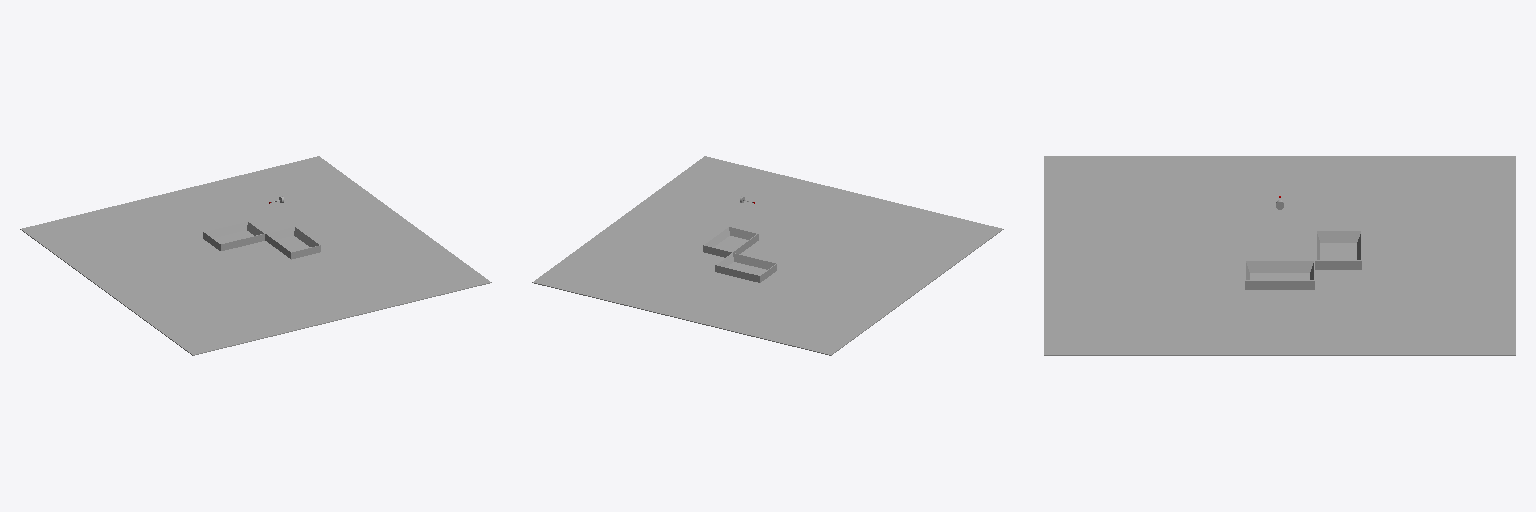
robot.urdf — rl_scene:
<?xml version="1.0" encoding="utf-8"?>
<!-- =================================================================================== -->
<!-- |    This document was autogenerated by xacro from rl_scene.xacro                 | -->
<!-- |    EDITING THIS FILE BY HAND IS NOT RECOMMENDED                                 | -->
<!-- =================================================================================== -->
<robot name="rl_scene">
  <material name="silver">
    <color rgba="0.700 0.700 0.700 1.000"/>
  </material>
  <link name="base_link">
    <inertial>
      <origin rpy="0 0 0" xyz="0.0 -2.3283064365386967e-16 -0.005"/>
      <mass value="1256.0"/>
      <inertia ixx="1674.677133" ixy="-0.0" ixz="0.0" iyy="1674.677133" iyz="-0.0" izz="3349.333333"/>
    </inertial>
    <visual>
      <origin rpy="0 0 0" xyz="0 0 0"/>
      <geometry>
        <mesh filename="package://rl_scene_description/meshes/base_link.stl" scale="0.001 0.001 0.001"/>
      </geometry>
      <material name="silver"/>
    </visual>
    <collision>
      <origin rpy="0 0 0" xyz="0 0 0"/>
      <geometry>
        <mesh filename="package://rl_scene_description/meshes/base_link.stl" scale="0.001 0.001 0.001"/>
      </geometry>
    </collision>
  </link>
  <link name="link_box1_1">
    <inertial>
      <origin rpy="0 0 0" xyz="8.478324452852449e-17 0.0 0.03175959070611188"/>
      <mass value="53.89391980829295"/>
      <inertia ixx="1.185042" ixy="0.0" ixz="0.0" iyy="2.312279" iyz="-0.0" izz="3.413976"/>
    </inertial>
    <visual>
      <origin rpy="0 0 0" xyz="0.0 -0.5 -0.0"/>
      <geometry>
        <mesh filename="package://rl_scene_description/meshes/link_box1_1.stl" scale="0.001 0.001 0.001"/>
      </geometry>
      <material name="silver"/>
    </visual>
    <collision>
      <origin rpy="0 0 0" xyz="0.0 -0.5 -0.0"/>
      <geometry>
        <mesh filename="package://rl_scene_description/meshes/link_box1_1.stl" scale="0.001 0.001 0.001"/>
      </geometry>
    </collision>
  </link>
  <link name="link_box2_1">
    <inertial>
      <origin rpy="0 0 0" xyz="1.1102230246251565e-16 0.0 0.03175959070611188"/>
      <mass value="53.89391980829295"/>
      <inertia ixx="2.312279" ixy="0.0" ixz="0.0" iyy="1.185042" iyz="-0.0" izz="3.413976"/>
    </inertial>
    <visual>
      <origin rpy="0 0 0" xyz="-0.5 -0.0 -0.0"/>
      <geometry>
        <mesh filename="package://rl_scene_description/meshes/link_box2_1.stl" scale="0.001 0.001 0.001"/>
      </geometry>
      <material name="silver"/>
    </visual>
    <collision>
      <origin rpy="0 0 0" xyz="-0.5 -0.0 -0.0"/>
      <geometry>
        <mesh filename="package://rl_scene_description/meshes/link_box2_1.stl" scale="0.001 0.001 0.001"/>
      </geometry>
    </collision>
  </link>
  <!-- GRIPPER -->
  <link name="link_gripper">
    <visual>
      <origin rpy="0 0 0" xyz="-0.0 -0.0 -0.0"/>
      <geometry>
        <mesh filename="package://rl_scene_description/meshes/gripper.stl" scale="0.001 0.001 0.001"/>
      </geometry>
      <material name="silver"/>
    </visual>
    <collision>
      <origin rpy="0 0 0" xyz="-0.0 -0.0 -0.0"/>
      <geometry>
        <mesh filename="package://rl_scene_description/meshes/gripper.stl" scale="0.001 0.001 0.001"/>
      </geometry>
    </collision>
  </link>
  <link name="grasp_point">
    <visual>
      <origin rpy="0 0 0" xyz="0.0 0.0 0.0"/>
      <geometry>
        <box size="0.015 0.015 0.015"/>
      </geometry>
      <material name="red">
        <color rgba="0.8 0.0 0.0 0.5"/>
      </material>
    </visual>
  </link>
  <joint name="gripper_joint_1" type="fixed">
    <origin rpy="0 0 0" xyz="0.0 -0.0 0.173"/>
    <parent link="link_gripper"/>
    <child link="grasp_point"/>
  </joint>
  <!--  -->
  <joint name="box2_joint" type="fixed">
    <origin rpy="0 0 0" xyz="0.0 0.5 0.0"/>
    <parent link="base_link"/>
    <child link="link_box1_1"/>
  </joint>
  <joint name="box1_joint" type="fixed">
    <origin rpy="0 0 0" xyz="0.5 0.0 0.0"/>
    <parent link="base_link"/>
    <child link="link_box2_1"/>
  </joint>
  <joint name="panda_1_joint_base_link" type="fixed">
    <parent link="base_link"/>
    <child link="panda_1_link0"/>
    <origin rpy="0 0 0" xyz="0.0 0.0 0.0"/>
  </joint>
  <link name="panda_1_link0">
    <visual>
      <geometry>
        <mesh filename="package://franka_description/meshes/visual/link0.dae"/>
      </geometry>
    </visual>
    <collision>
      <origin rpy="0 1.57079632679 0" xyz="-0.075 0 0.06"/>
      <geometry>
        <cylinder length="0.03" radius="0.09"/>
      </geometry>
    </collision>
    <collision>
      <origin rpy="0 0 0" xyz="-0.06 0 0.06"/>
      <geometry>
        <sphere radius="0.09"/>
      </geometry>
    </collision>
    <collision>
      <origin rpy="0 0 0" xyz="-0.09 0 0.06"/>
      <geometry>
        <sphere radius="0.09"/>
      </geometry>
    </collision>
  </link>
  <link name="panda_1_link1">
    <visual>
      <geometry>
        <mesh filename="package://franka_description/meshes/visual/link1.dae"/>
      </geometry>
    </visual>
    <collision>
      <origin rpy="0 0 0" xyz="0 0 -0.1915"/>
      <geometry>
        <cylinder length="0.2830" radius="0.09"/>
      </geometry>
    </collision>
    <collision>
      <origin rpy="0 0 0" xyz="0 0 -0.333"/>
      <geometry>
        <sphere radius="0.09"/>
      </geometry>
    </collision>
    <collision>
      <origin rpy="0 0 0" xyz="0 0 -0.05"/>
      <geometry>
        <sphere radius="0.09"/>
      </geometry>
    </collision>
  </link>
  <joint name="panda_1_joint1" type="revolute">
    <safety_controller k_position="100.0" k_velocity="40.0" soft_lower_limit="-2.8973" soft_upper_limit="2.8973"/>
    <origin rpy="0 0 0" xyz="0 0 0.333"/>
    <parent link="panda_1_link0"/>
    <child link="panda_1_link1"/>
    <axis xyz="0 0 1"/>
    <limit effort="87" lower="-2.8973" upper="2.8973" velocity="2.1750"/>
  </joint>
  <link name="panda_1_link2">
    <visual>
      <geometry>
        <mesh filename="package://franka_description/meshes/visual/link2.dae"/>
      </geometry>
    </visual>
    <collision>
      <origin rpy="0 0 0" xyz="0 0 0"/>
      <geometry>
        <cylinder length="0.12" radius="0.09"/>
      </geometry>
    </collision>
    <collision>
      <origin rpy="0 0 0" xyz="0 0 -0.06"/>
      <geometry>
        <sphere radius="0.09"/>
      </geometry>
    </collision>
    <collision>
      <origin rpy="0 0 0" xyz="0 0 0.06"/>
      <geometry>
        <sphere radius="0.09"/>
      </geometry>
    </collision>
  </link>
  <joint name="panda_1_joint2" type="revolute">
    <safety_controller k_position="100.0" k_velocity="40.0" soft_lower_limit="-1.7628" soft_upper_limit="1.7628"/>
    <origin rpy="-1.57079632679 0 0" xyz="0 0 0"/>
    <parent link="panda_1_link1"/>
    <child link="panda_1_link2"/>
    <axis xyz="0 0 1"/>
    <limit effort="87" lower="-1.7628" upper="1.7628" velocity="2.1750"/>
  </joint>
  <link name="panda_1_link3">
    <visual>
      <geometry>
        <mesh filename="package://franka_description/meshes/visual/link3.dae"/>
      </geometry>
    </visual>
    <collision>
      <origin rpy="0 0 0" xyz="0 0 -0.145"/>
      <geometry>
        <cylinder length="0.15" radius="0.09"/>
      </geometry>
    </collision>
    <collision>
      <origin rpy="0 0 0" xyz="0 0 -0.22"/>
      <geometry>
        <sphere radius="0.09"/>
      </geometry>
    </collision>
    <collision>
      <origin rpy="0 0 0" xyz="0 0 -0.07"/>
      <geometry>
        <sphere radius="0.09"/>
      </geometry>
    </collision>
  </link>
  <joint name="panda_1_joint3" type="revolute">
    <safety_controller k_position="100.0" k_velocity="40.0" soft_lower_limit="-2.8973" soft_upper_limit="2.8973"/>
    <origin rpy="1.57079632679 0 0" xyz="0 -0.316 0"/>
    <parent link="panda_1_link2"/>
    <child link="panda_1_link3"/>
    <axis xyz="0 0 1"/>
    <limit effort="87" lower="-2.8973" upper="2.8973" velocity="2.1750"/>
  </joint>
  <link name="panda_1_link4">
    <visual>
      <geometry>
        <mesh filename="package://franka_description/meshes/visual/link4.dae"/>
      </geometry>
    </visual>
    <collision>
      <origin rpy="0 0 0" xyz="0 0 0"/>
      <geometry>
        <cylinder length="0.12" radius="0.09"/>
      </geometry>
    </collision>
    <collision>
      <origin rpy="0 0 0" xyz="0 0 0.06"/>
      <geometry>
        <sphere radius="0.09"/>
      </geometry>
    </collision>
    <collision>
      <origin rpy="0 0 0" xyz="0 0 -0.06"/>
      <geometry>
        <sphere radius="0.09"/>
      </geometry>
    </collision>
  </link>
  <joint name="panda_1_joint4" type="revolute">
    <safety_controller k_position="100.0" k_velocity="40.0" soft_lower_limit="-3.0718" soft_upper_limit="-0.0698"/>
    <origin rpy="1.57079632679 0 0" xyz="0.0825 0 0"/>
    <parent link="panda_1_link3"/>
    <child link="panda_1_link4"/>
    <axis xyz="0 0 1"/>
    <limit effort="87" lower="-3.0718" upper="-0.0698" velocity="2.1750"/>
  </joint>
  <link name="panda_1_link5">
    <visual>
      <geometry>
        <mesh filename="package://franka_description/meshes/visual/link5.dae"/>
      </geometry>
    </visual>
    <collision>
      <origin rpy="0 0 0" xyz="0 0 -0.26"/>
      <geometry>
        <cylinder length="0.1" radius="0.09"/>
      </geometry>
    </collision>
    <collision>
      <origin rpy="0 0 0" xyz="0 0 -0.31"/>
      <geometry>
        <sphere radius="0.09"/>
      </geometry>
    </collision>
    <collision>
      <origin rpy="0 0 0" xyz="0 0 -0.21"/>
      <geometry>
        <sphere radius="0.09"/>
      </geometry>
    </collision>
    <collision>
      <origin rpy="0 0 0" xyz="0 0.08 -0.13"/>
      <geometry>
        <cylinder length="0.14" radius="0.055"/>
      </geometry>
    </collision>
    <collision>
      <origin rpy="0 0 0" xyz="0 0.08 -0.06"/>
      <geometry>
        <sphere radius="0.055"/>
      </geometry>
    </collision>
    <collision>
      <origin rpy="0 0 0" xyz="0 0.08 -0.20"/>
      <geometry>
        <sphere radius="0.055"/>
      </geometry>
    </collision>
  </link>
  <joint name="panda_1_joint5" type="revolute">
    <safety_controller k_position="100.0" k_velocity="40.0" soft_lower_limit="-2.8973" soft_upper_limit="2.8973"/>
    <origin rpy="-1.57079632679 0 0" xyz="-0.0825 0.384 0"/>
    <parent link="panda_1_link4"/>
    <child link="panda_1_link5"/>
    <axis xyz="0 0 1"/>
    <limit effort="12" lower="-2.8973" upper="2.8973" velocity="2.6100"/>
  </joint>
  <link name="panda_1_link6">
    <visual>
      <geometry>
        <mesh filename="package://franka_description/meshes/visual/link6.dae"/>
      </geometry>
    </visual>
    <collision>
      <origin rpy="0 0 0" xyz="0 0 -0.03"/>
      <geometry>
        <cylinder length="0.08" radius="0.08"/>
      </geometry>
    </collision>
    <collision>
      <origin rpy="0 0 0" xyz="0 0 0.01"/>
      <geometry>
        <sphere radius="0.08"/>
      </geometry>
    </collision>
    <collision>
      <origin rpy="0 0 0" xyz="0 0 -0.07"/>
      <geometry>
        <sphere radius="0.08"/>
      </geometry>
    </collision>
  </link>
  <joint name="panda_1_joint6" type="revolute">
    <safety_controller k_position="100.0" k_velocity="40.0" soft_lower_limit="-0.0175" soft_upper_limit="3.7525"/>
    <origin rpy="1.57079632679 0 0" xyz="0 0 0"/>
    <parent link="panda_1_link5"/>
    <child link="panda_1_link6"/>
    <axis xyz="0 0 1"/>
    <limit effort="12" lower="-0.0175" upper="3.7525" velocity="2.6100"/>
  </joint>
  <link name="panda_1_link7">
    <visual>
      <geometry>
        <mesh filename="package://franka_description/meshes/visual/link7.dae"/>
      </geometry>
    </visual>
    <collision>
      <origin rpy="0 0 0" xyz="0 0 0.01"/>
      <geometry>
        <cylinder length="0.14" radius="0.07"/>
      </geometry>
    </collision>
    <collision>
      <origin rpy="0 0 0" xyz="0 0 0.08"/>
      <geometry>
        <sphere radius="0.07"/>
      </geometry>
    </collision>
    <collision>
      <origin rpy="0 0 0" xyz="0 0 -0.06"/>
      <geometry>
        <sphere radius="0.07"/>
      </geometry>
    </collision>
  </link>
  <joint name="panda_1_joint7" type="revolute">
    <safety_controller k_position="100.0" k_velocity="40.0" soft_lower_limit="-2.8973" soft_upper_limit="2.8973"/>
    <origin rpy="1.57079632679 0 0" xyz="0.088 0 0"/>
    <parent link="panda_1_link6"/>
    <child link="panda_1_link7"/>
    <axis xyz="0 0 1"/>
    <limit effort="12" lower="-2.8973" upper="2.8973" velocity="2.6100"/>
  </joint>
  <link name="panda_1_link8">
    <collision>
      <origin rpy="3.14159265359 1.57079632679 1.57079632679" xyz="0.0424 0.0424 -0.0250"/>
      <geometry>
        <cylinder length="0.01" radius="0.06"/>
      </geometry>
    </collision>
    <collision>
      <origin rpy="0 0 0" xyz="0.0424 0.0424 -0.02"/>
      <geometry>
        <sphere radius="0.06"/>
      </geometry>
    </collision>
    <collision>
      <origin rpy="0 0 0" xyz="0.0424 0.0424 -0.03"/>
      <geometry>
        <sphere radius="0.06"/>
      </geometry>
    </collision>
  </link>
  <joint name="panda_1_joint8" type="fixed">
    <origin rpy="0 0 0" xyz="0 0 0.107"/>
    <parent link="panda_1_link7"/>
    <child link="panda_1_link8"/>
  </joint>
  <joint name="box_2_joint" type="fixed">
    <origin rpy="0 0 0" xyz="0.0 0.0 0.0"/>
    <parent link="panda_1_link8"/>
    <child link="link_gripper"/>
  </joint>
</robot>

--- Render facts (derived) ---
3 views of the same robot in one strip: view 1: azimuth 30°, elevation 25°; view 2: azimuth 150°, elevation 25°; view 3: azimuth 270°, elevation 25° (orthographic).
Model rl_scene with 14 links and 13 joints (7 revolute, 6 fixed), rooted at base_link, posed all joints at 0 but 1 set to mid-range because 0 is outside their limits (panda_1_joint4 = -1.57).
Visible links, largest first — view 1: base_link, link_box2_1, link_box1_1; view 2: base_link, link_box1_1, link_box2_1; view 3: base_link, link_box2_1, link_box1_1.
Boxes of the visible links, x1,y1,x2,y2 form: base_link: (20,156,491,355); link_box2_1: (265,226,320,259); link_box1_1: (203,221,264,250); base_link: (532,156,1003,355); link_box1_1: (715,253,776,282); link_box2_1: (703,226,758,257); base_link: (1044,156,1515,355); link_box2_1: (1245,261,1314,289); link_box1_1: (1315,231,1361,269).
Size in the robot's own frame: 4 by 4 by 0.681 metres.
Meshes: 12 distinct files referenced, 4 mesh visuals loaded (3 binary STL, 1 ASCII STL); not drawn: 8 (reference not matched to a file when rendering).